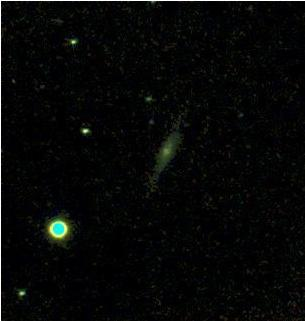star: (65, 117, 95, 147)
